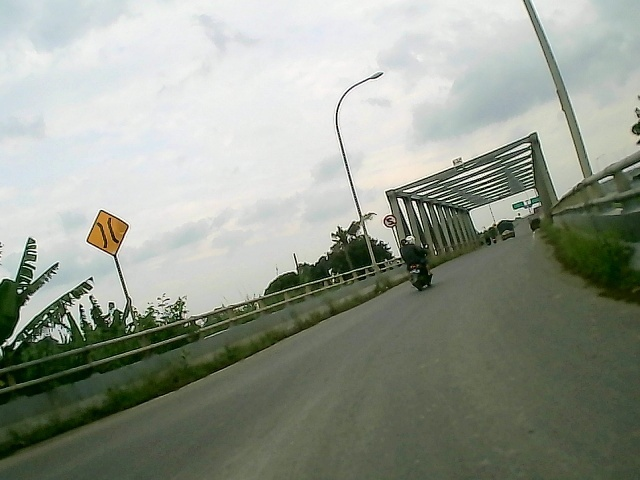Jembatan: (84, 209, 131, 256)
